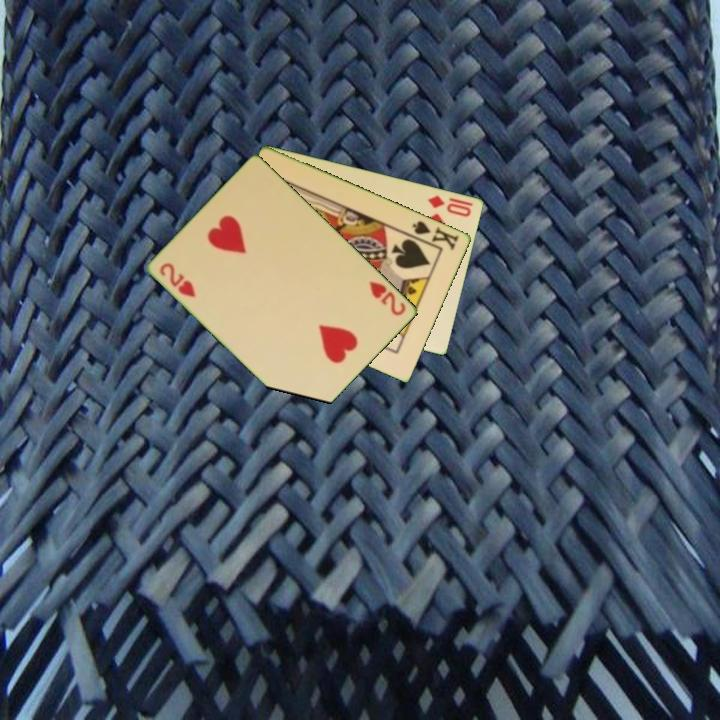10d: (424, 192, 474, 220)
2h: (366, 277, 409, 319), (156, 259, 199, 301)
Ks: (406, 217, 462, 253)
